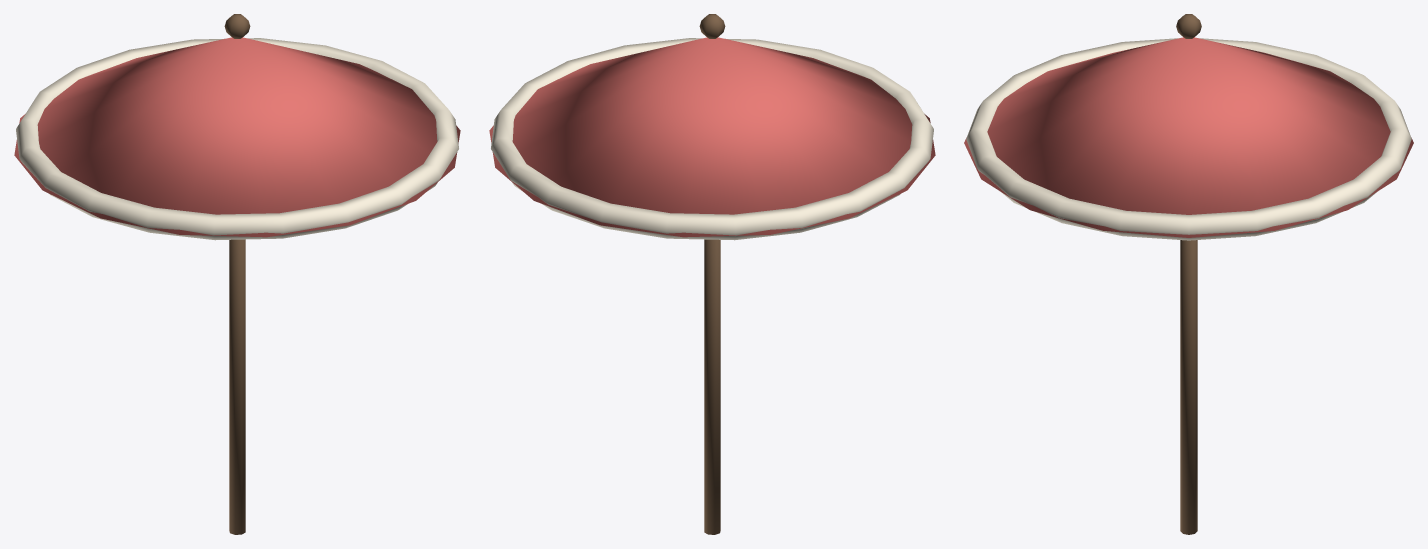
Rendered from xy_town_parasol.glb.
The picture shows the model from 3 angles, left to right: view 1: azimuth 30°, elevation 25°; view 2: azimuth 150°, elevation 25°; view 3: azimuth 270°, elevation 25°; orthographic projection.
Parts seen in each view (by area): view 1: xy_town_parasol; view 2: xy_town_parasol; view 3: xy_town_parasol.
Part boxes in pixels (x1=…): xy_town_parasol: x1=14, y1=14, x2=460, y2=534; xy_town_parasol: x1=489, y1=14, x2=935, y2=534; xy_town_parasol: x1=964, y1=14, x2=1413, y2=534.
Size of the model in its own units: 2.1 by 2.66 by 2.1.
